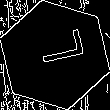L_W: (26, 34, 84, 76)
